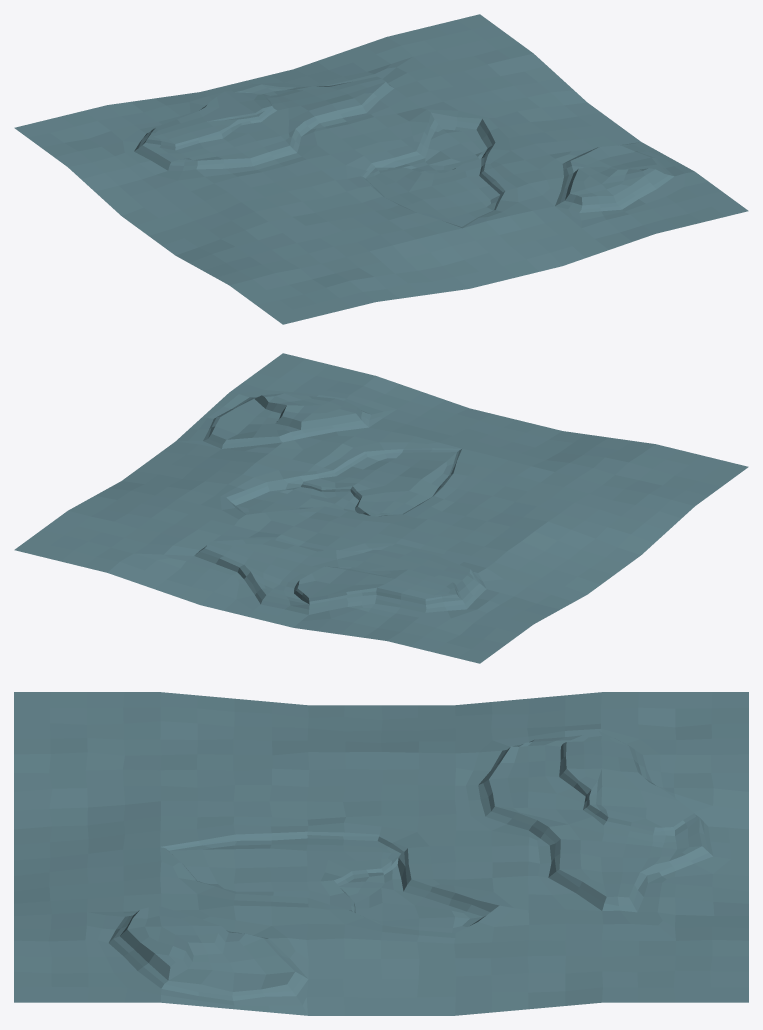
The model's file is Terrain_a_ice.FBX.
The picture shows the model from 3 angles, top to bottom: view 1: azimuth 30°, elevation 25°; view 2: azimuth 150°, elevation 25°; view 3: azimuth 270°, elevation 25°; orthographic projection. The views are drawn at different scales.
Parts seen in each view (by area): view 1: Terrain_a_ice; view 2: Terrain_a_ice; view 3: Terrain_a_ice.
Part boxes in pixels (bbox=[...]): Terrain_a_ice: bbox=[14, 14, 748, 324]; Terrain_a_ice: bbox=[14, 353, 748, 663]; Terrain_a_ice: bbox=[14, 692, 748, 1015].
Bounding box in the file's own units: 100 × 4.39 × 100.
